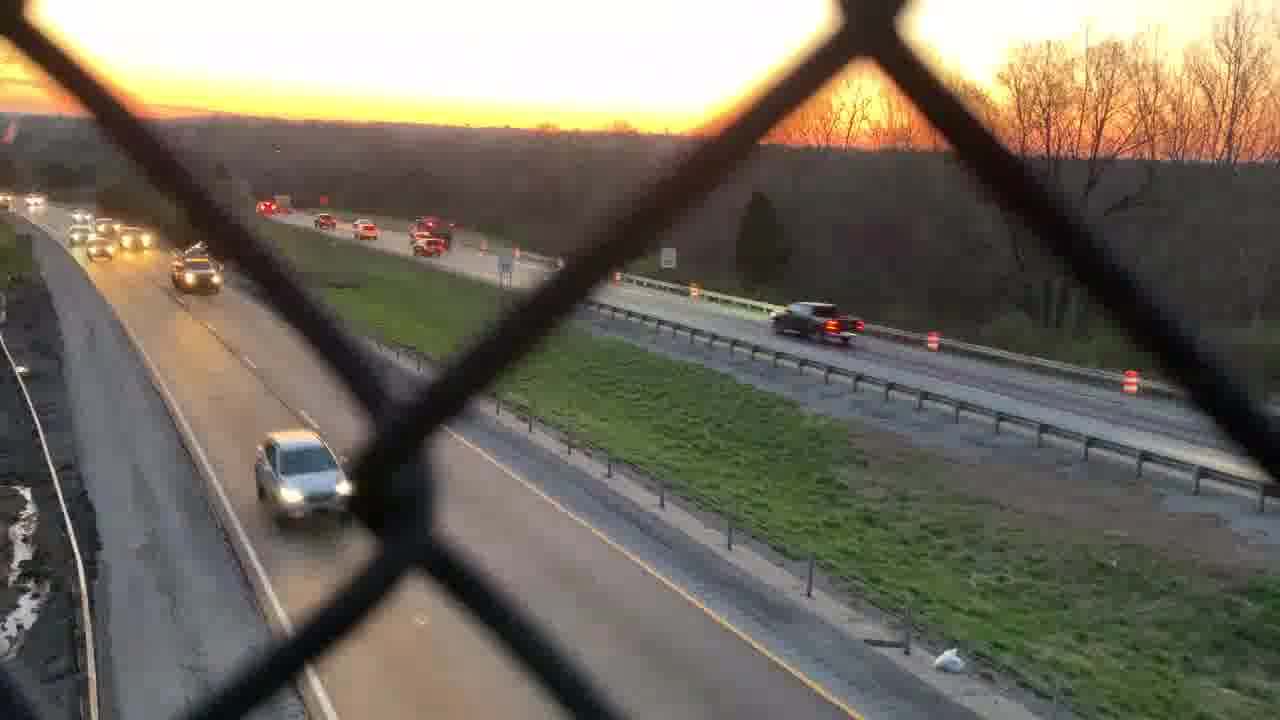largeCar: (254, 427, 358, 527)
lightTruck: (767, 300, 866, 348), (170, 257, 226, 301)
vehicle: (116, 226, 154, 254), (413, 235, 448, 257), (82, 241, 112, 262), (311, 209, 339, 231), (25, 190, 52, 209), (351, 225, 379, 240), (66, 226, 90, 241), (255, 196, 276, 213), (71, 208, 95, 222)
